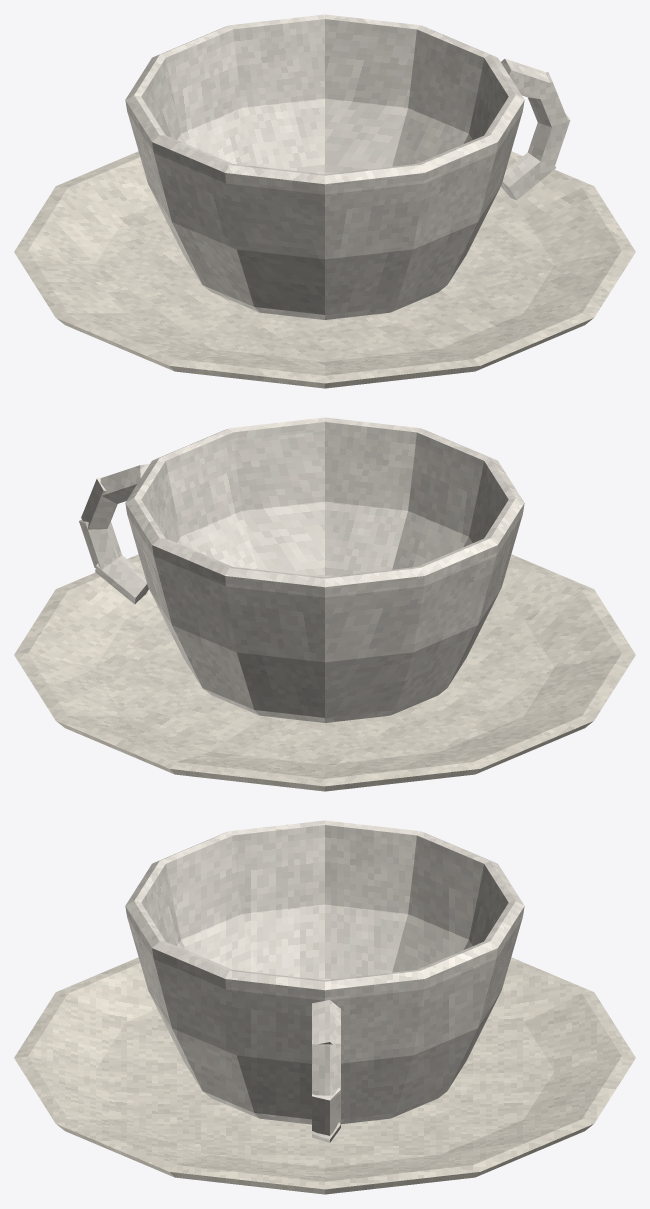
The model's file is cup.glb.
3 renders of one model, top to bottom at view 1: azimuth 30°, elevation 25°; view 2: azimuth 150°, elevation 25°; view 3: azimuth 270°, elevation 25°, orthographic.
Parts seen in each view (by area): view 1: cup_body, saucer, cup_handle; view 2: cup_body, saucer, cup_handle; view 3: cup_body, saucer, cup_handle.
Part boxes in pixels (x1=…): cup_body: x1=125, y1=14, x2=524, y2=319; saucer: x1=14, y1=151, x2=635, y2=388; cup_handle: x1=501, y1=58, x2=570, y2=200; cup_body: x1=125, y1=417, x2=524, y2=722; saucer: x1=14, y1=554, x2=635, y2=791; cup_handle: x1=79, y1=464, x2=149, y2=604; cup_body: x1=125, y1=820, x2=524, y2=1124; saucer: x1=14, y1=957, x2=635, y2=1194; cup_handle: x1=312, y1=1000, x2=340, y2=1142.
Bounding box in the file's own units: 3.52 × 1.18 × 3.52.
2 materials, 2 textured.
